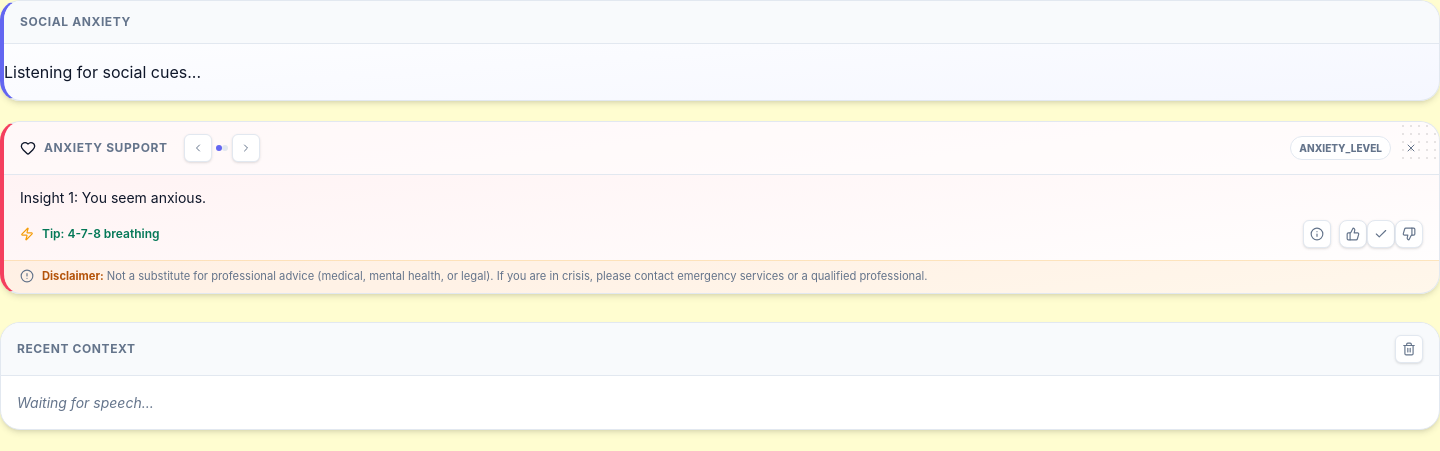
Test: CoachingInsights functionality › allows navigating between insights
The image size is (1440, 451).
Expected: the text "Insight 1: You seem anxious." is shown, x1=20 y1=189 x2=206 y2=206
Click the button named "Next insight". click: (246, 148)
box: x1=232 y1=134 x2=260 y2=162
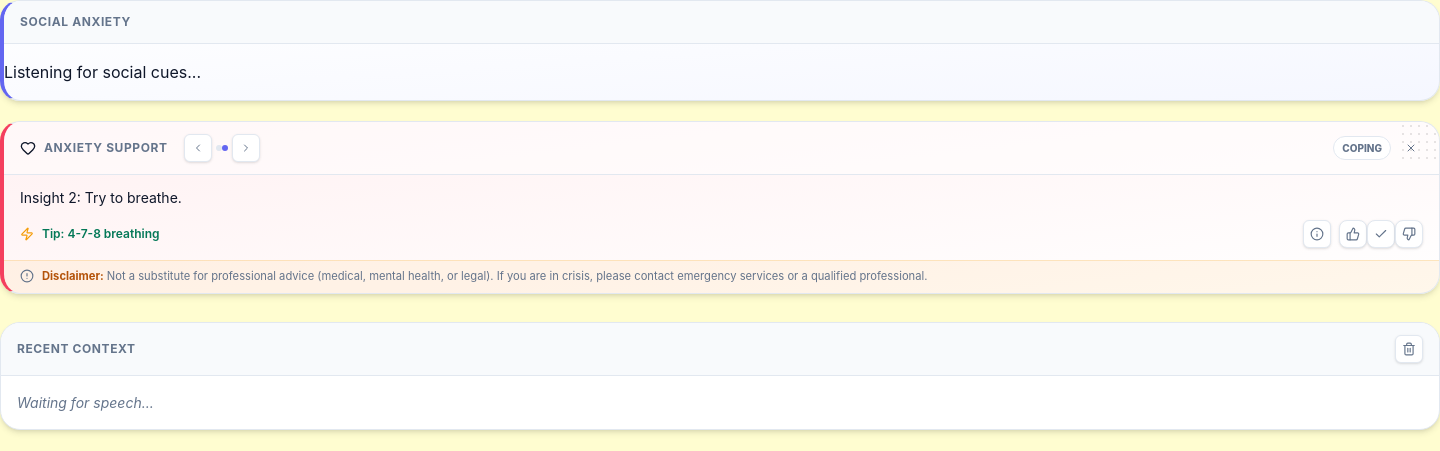
Result: the text "Insight 2: Try to breathe." is shown at x1=20 y1=189 x2=182 y2=206
Click the button named "Previous insight". click: (198, 148)
box: x1=184 y1=134 x2=212 y2=162
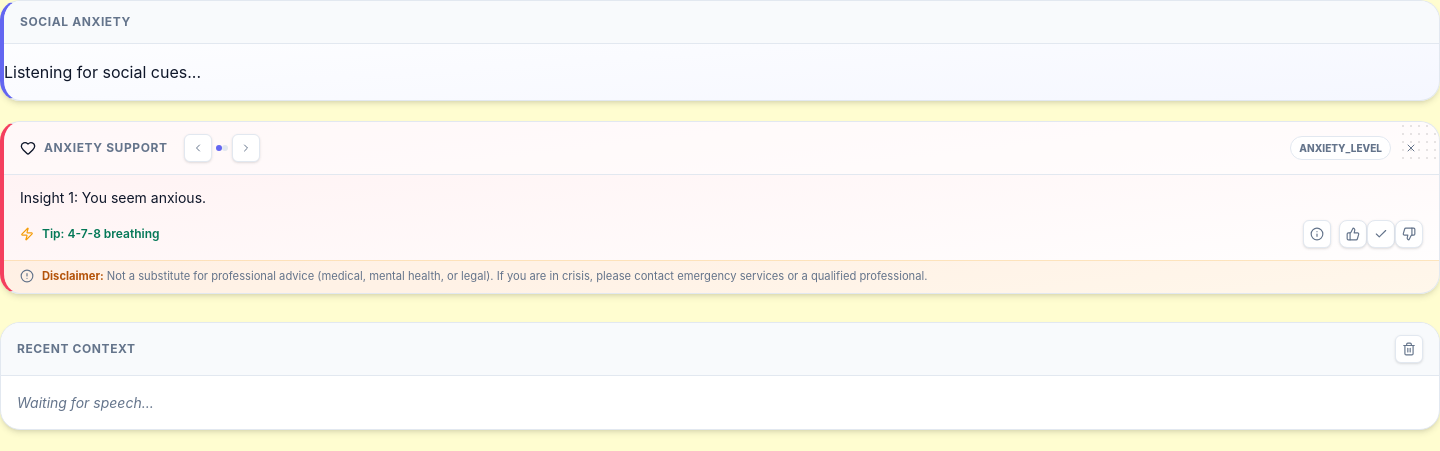
Result: the text "Insight 1: You seem anxious." is shown at x1=20 y1=189 x2=206 y2=206
